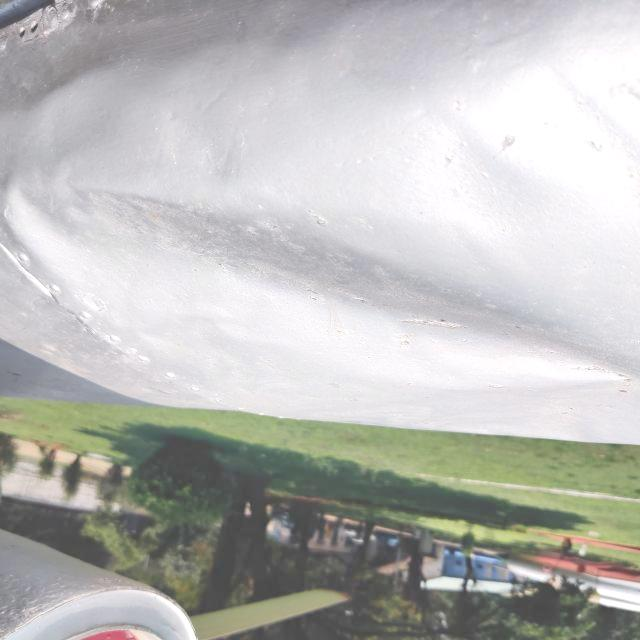dent: (0, 143, 640, 429), (512, 32, 640, 177), (410, 91, 546, 215)
